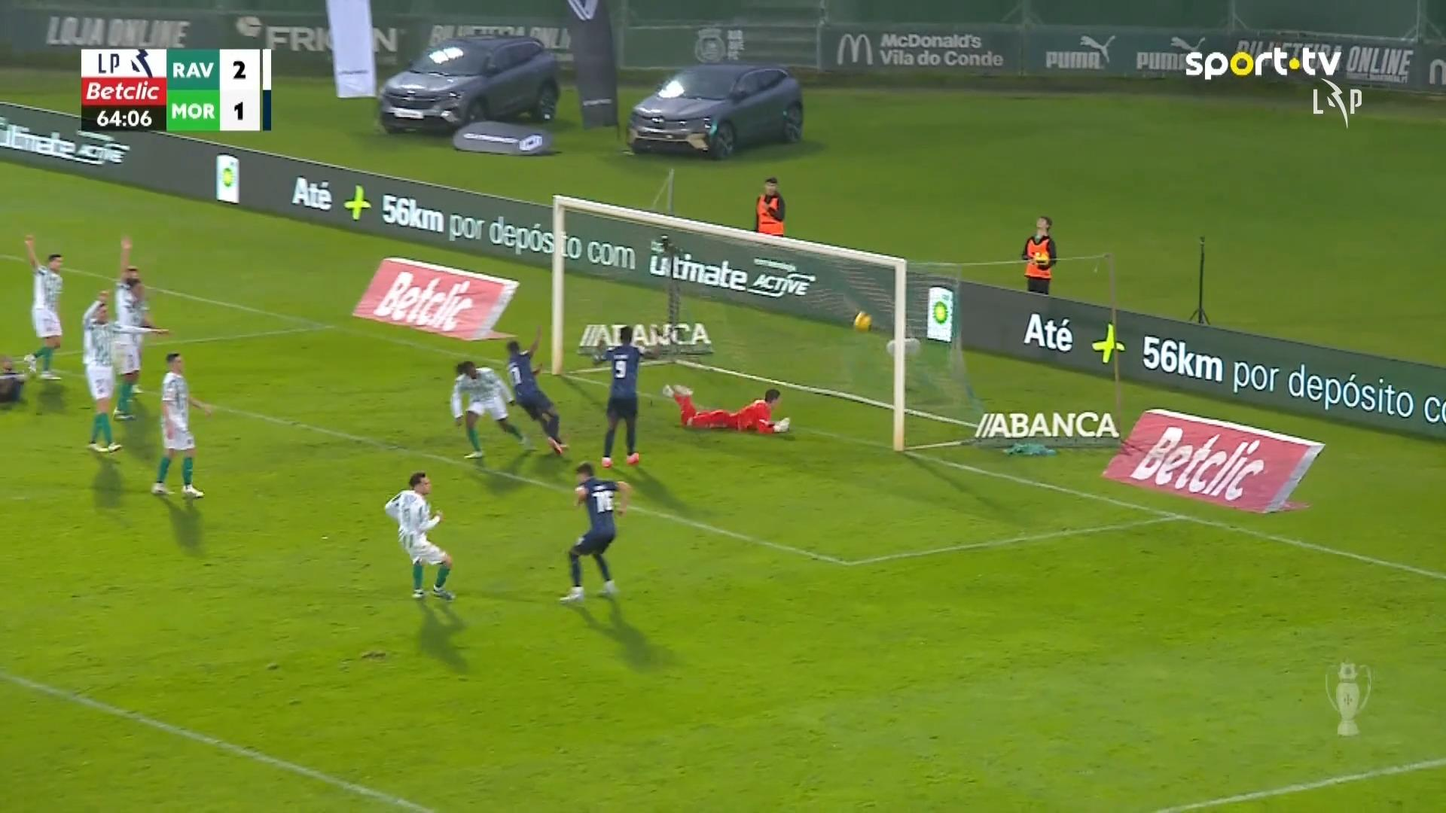ball: (853, 311, 871, 331)
goalkeeper: (661, 382, 791, 434)
player: (81, 288, 169, 453), (109, 235, 168, 421), (558, 461, 631, 602), (590, 324, 658, 467), (383, 470, 456, 600), (151, 351, 213, 498), (448, 359, 534, 460), (504, 325, 569, 455), (81, 288, 123, 452), (21, 234, 65, 380)
